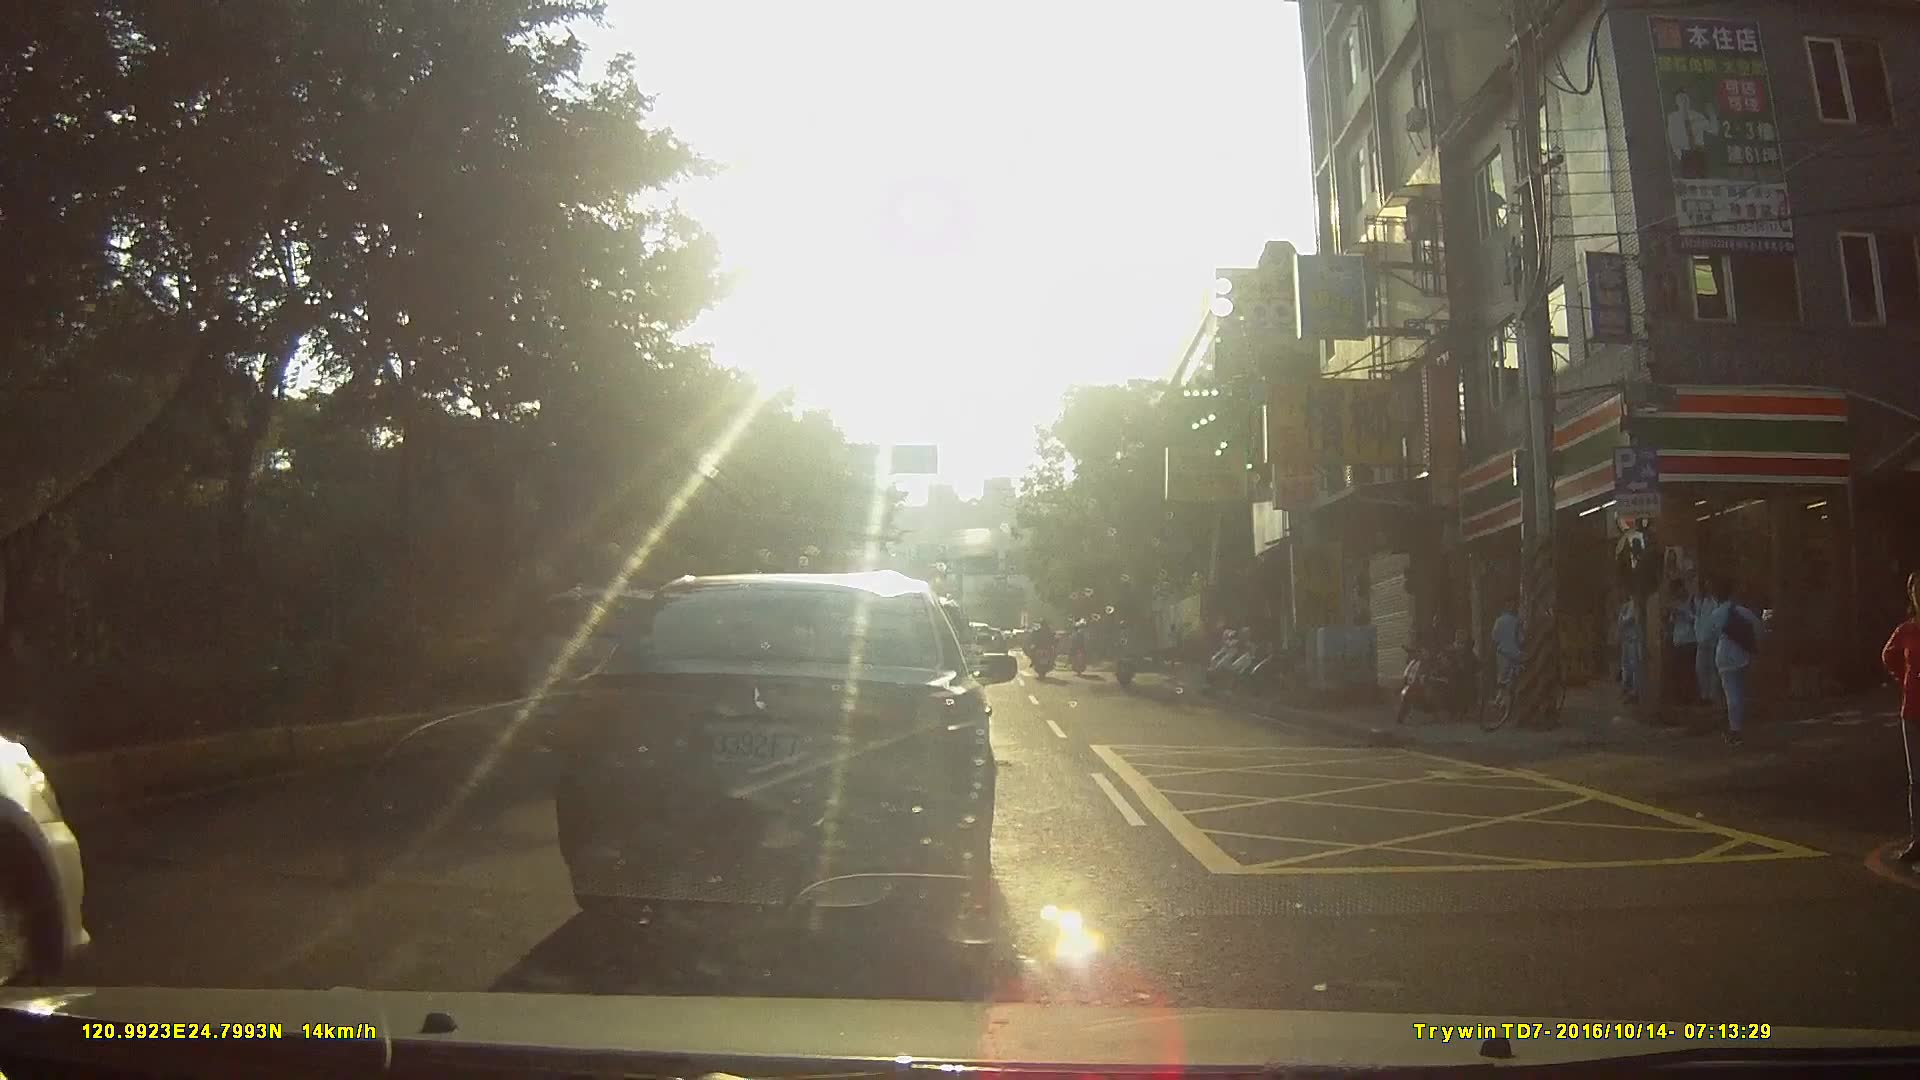pedestrian: (1695, 582, 1770, 753), (1886, 567, 1920, 854), (1665, 569, 1702, 709), (1618, 583, 1655, 708), (1492, 597, 1532, 709)
rider: (1066, 620, 1097, 681), (1029, 617, 1059, 680), (1116, 619, 1140, 689)
vehicle: (536, 568, 1025, 959), (0, 597, 210, 995)
